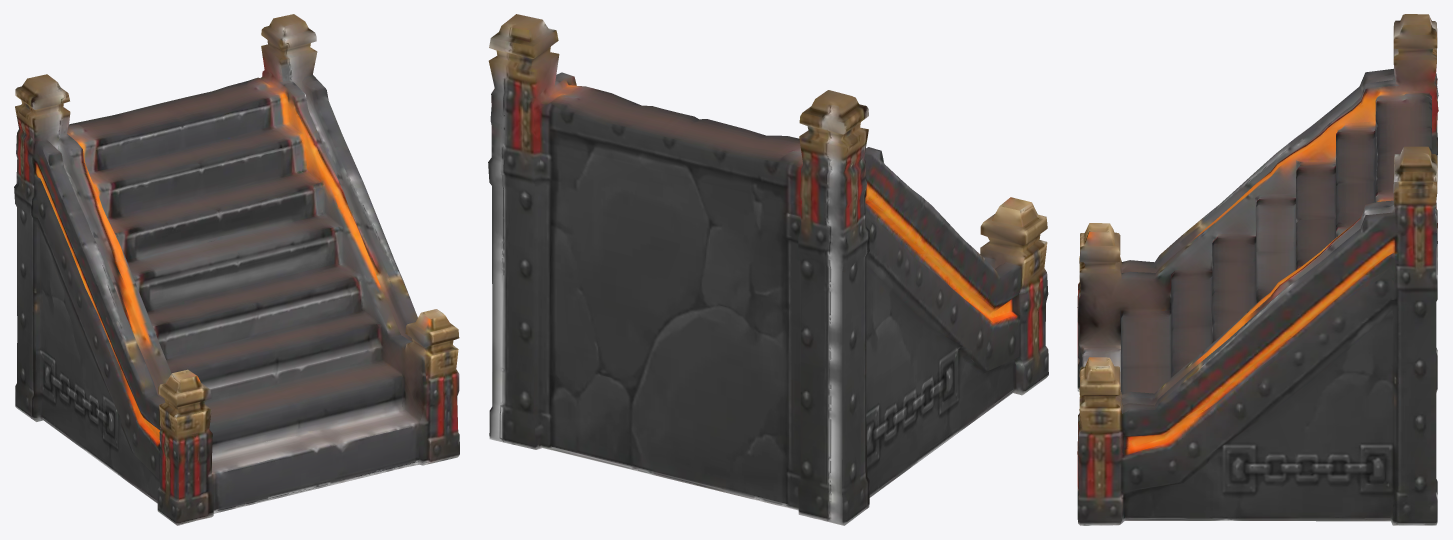
Rendered from SM_Tripo_InfernoStairs.glb.
3 views of the same model, side by side, from view 1: azimuth 30°, elevation 25°; view 2: azimuth 150°, elevation 25°; view 3: azimuth 270°, elevation 25° (orthographic). The views are drawn at different scales.
Parts seen in each view (by area): view 1: SM_Tripo_InfernoStairs_LOD0; view 2: SM_Tripo_InfernoStairs_LOD0; view 3: SM_Tripo_InfernoStairs_LOD0.
Boxes of the visible parts, left/top/right/bottom form: SM_Tripo_InfernoStairs_LOD0: left=14, top=14, right=459, bottom=525; SM_Tripo_InfernoStairs_LOD0: left=488, top=14, right=1048, bottom=525; SM_Tripo_InfernoStairs_LOD0: left=1077, top=14, right=1438, bottom=525.
Bounding box in the file's own units: 2.62 × 2.89 × 2.59.
Materials: 1 (1 with a texture image).
